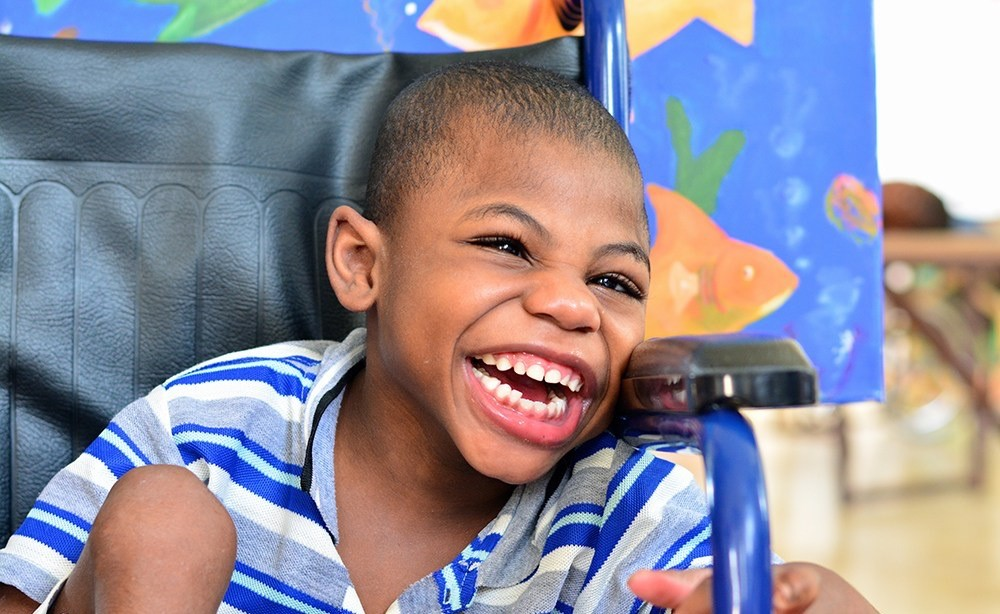happy: (398, 165, 648, 482)
